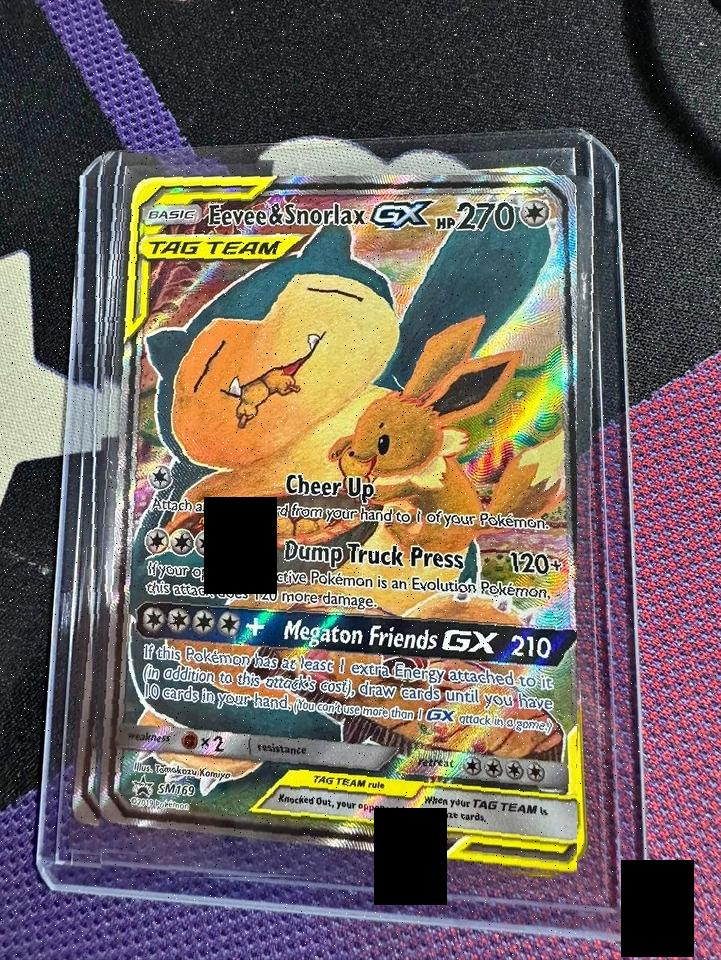card: (99, 175, 577, 875)
